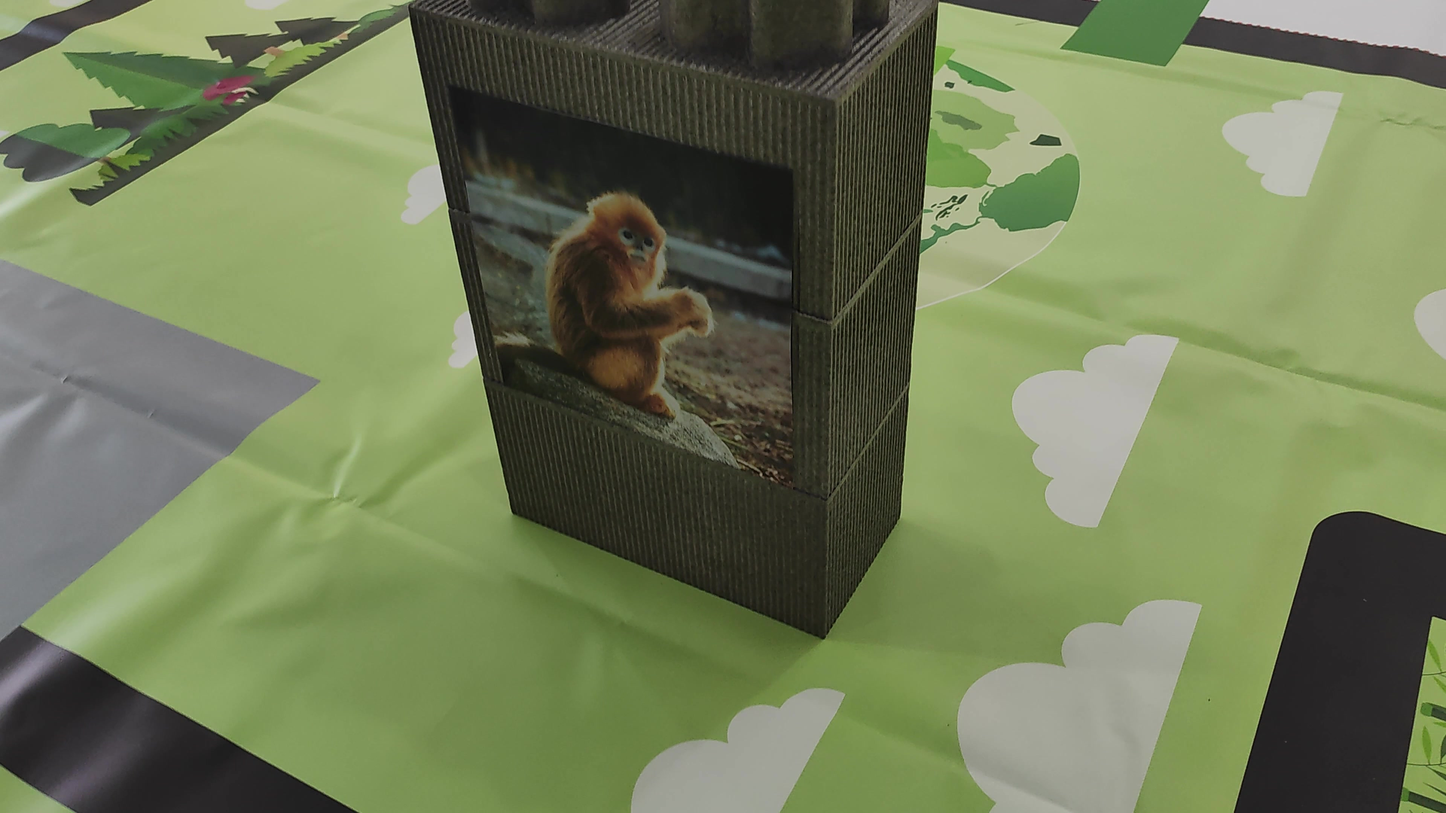monkey: (484, 115, 765, 432)
